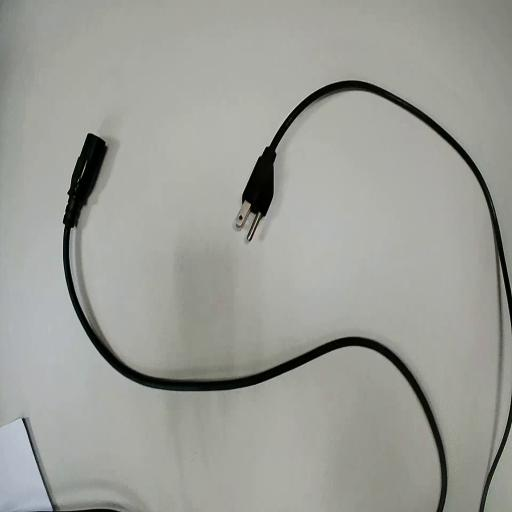wire: (64, 134, 446, 511), (243, 81, 511, 317)
